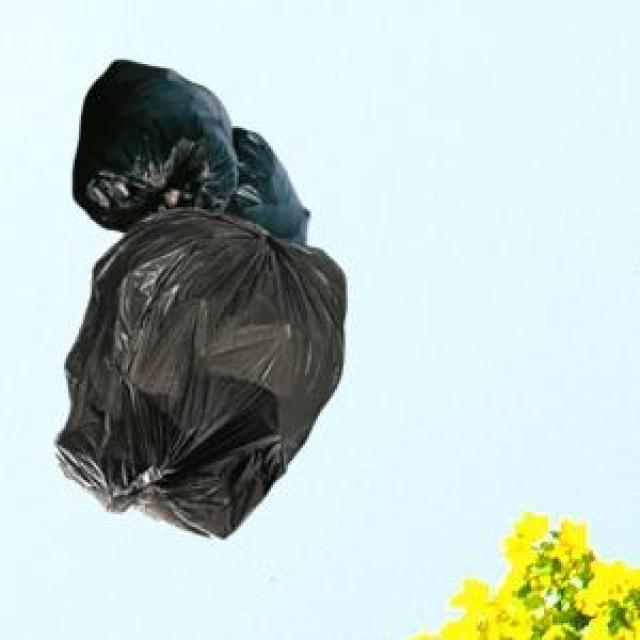waste: (58, 60, 345, 537)
